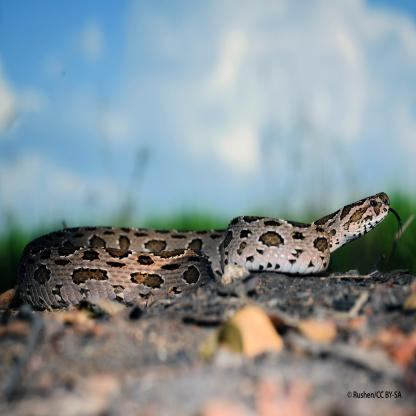Snake: (18, 188, 392, 298)
